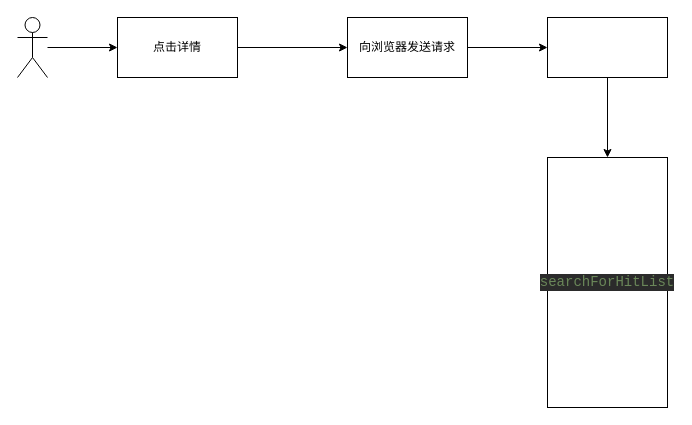
The diagram is 692 pixels wide and 425 high, and some of its shapes have lost their labels. The shapes that lost their labels are listed below. From the top down, each one's centre as x and y in pixels, then its label:
At (32,47): "Actor".
At (607,47): "生成接口数据".
